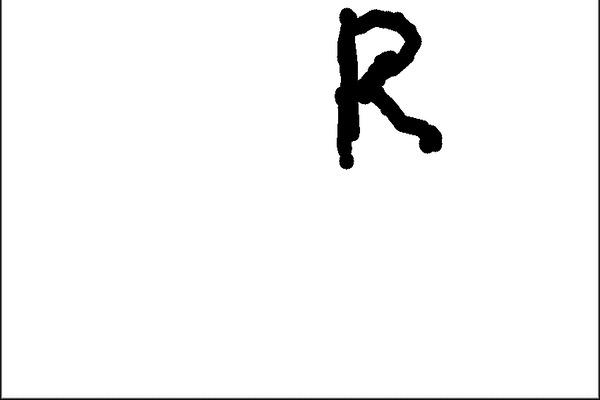R: (321, 0, 452, 180)
